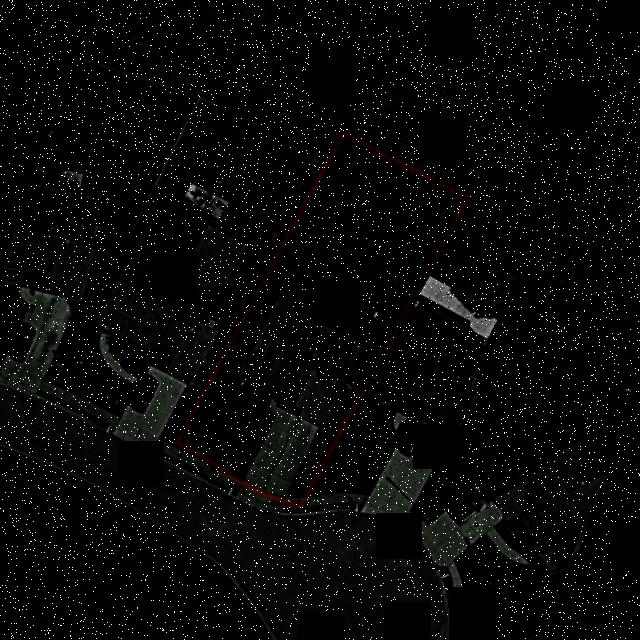Driveway: (243, 400, 317, 495)
Extra Driveway: (234, 485, 278, 513)
Extra Lawn: (166, 456, 237, 493)
Extra Sidewalk: (168, 445, 238, 492)
House: (233, 267, 381, 428)
